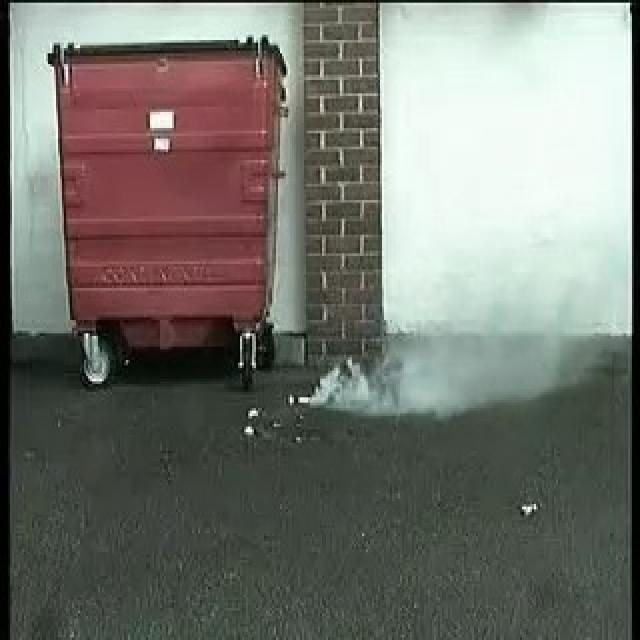smoke: (302, 277, 538, 412)
